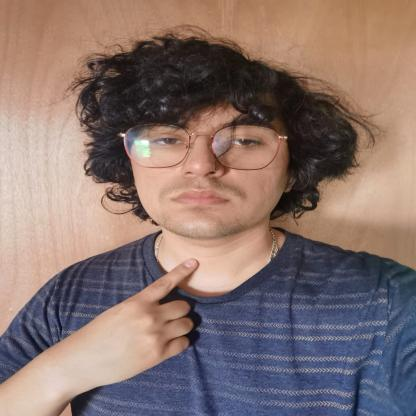Q: (44, 254, 200, 384)
